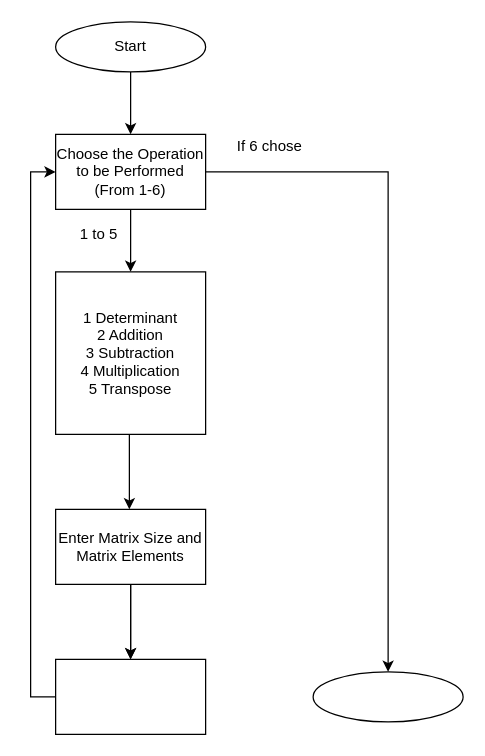
Image size: 485x756. Some labels were removed from this diagram. The centre of each missing label's shape, as x and y in pixels:
Display Output: point (130, 696)
Exit: point (387, 696)
